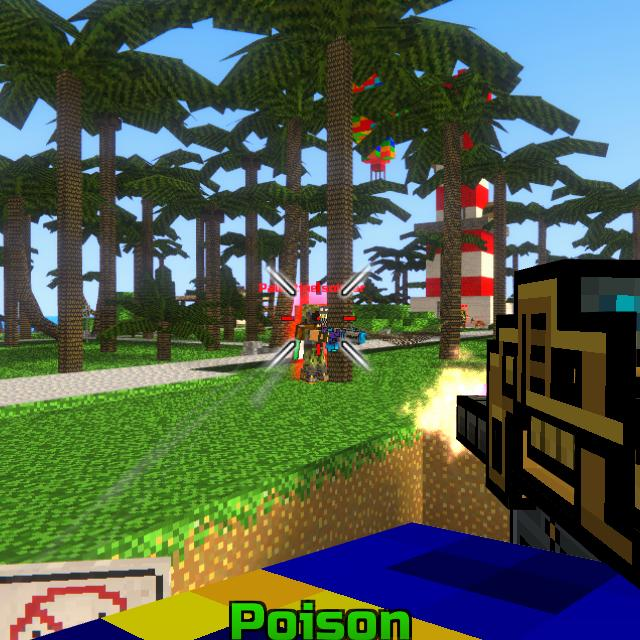Enemy: (295, 304, 329, 384)
